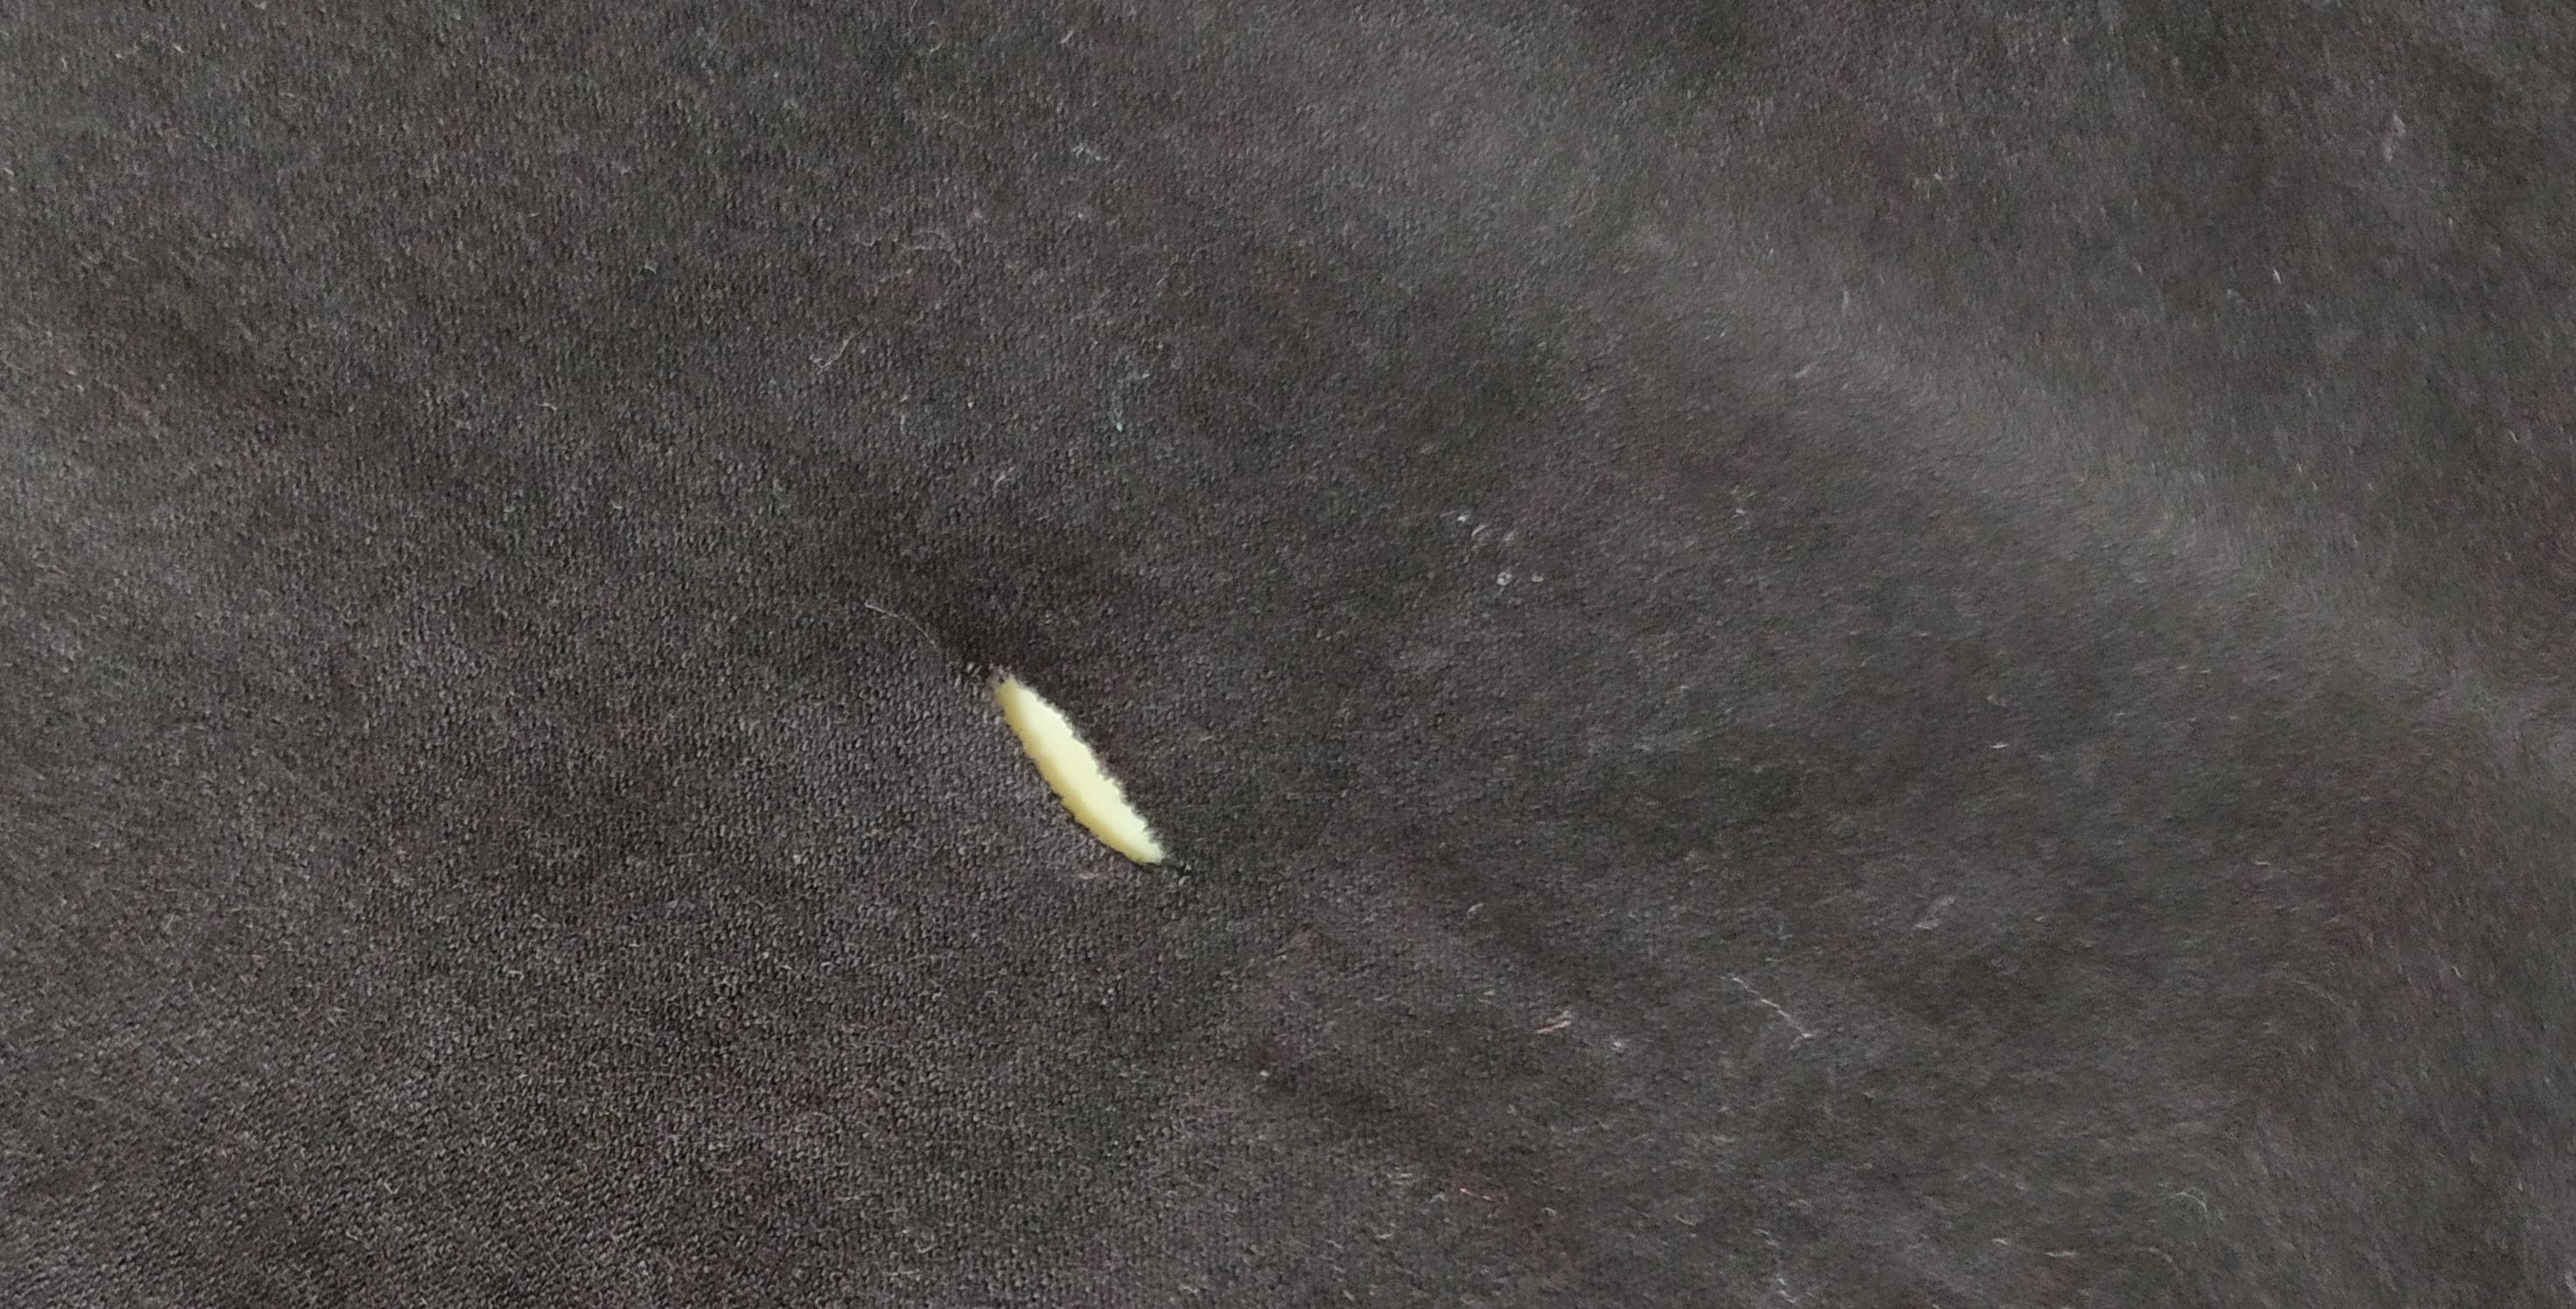hole: (979, 633, 1193, 892)
